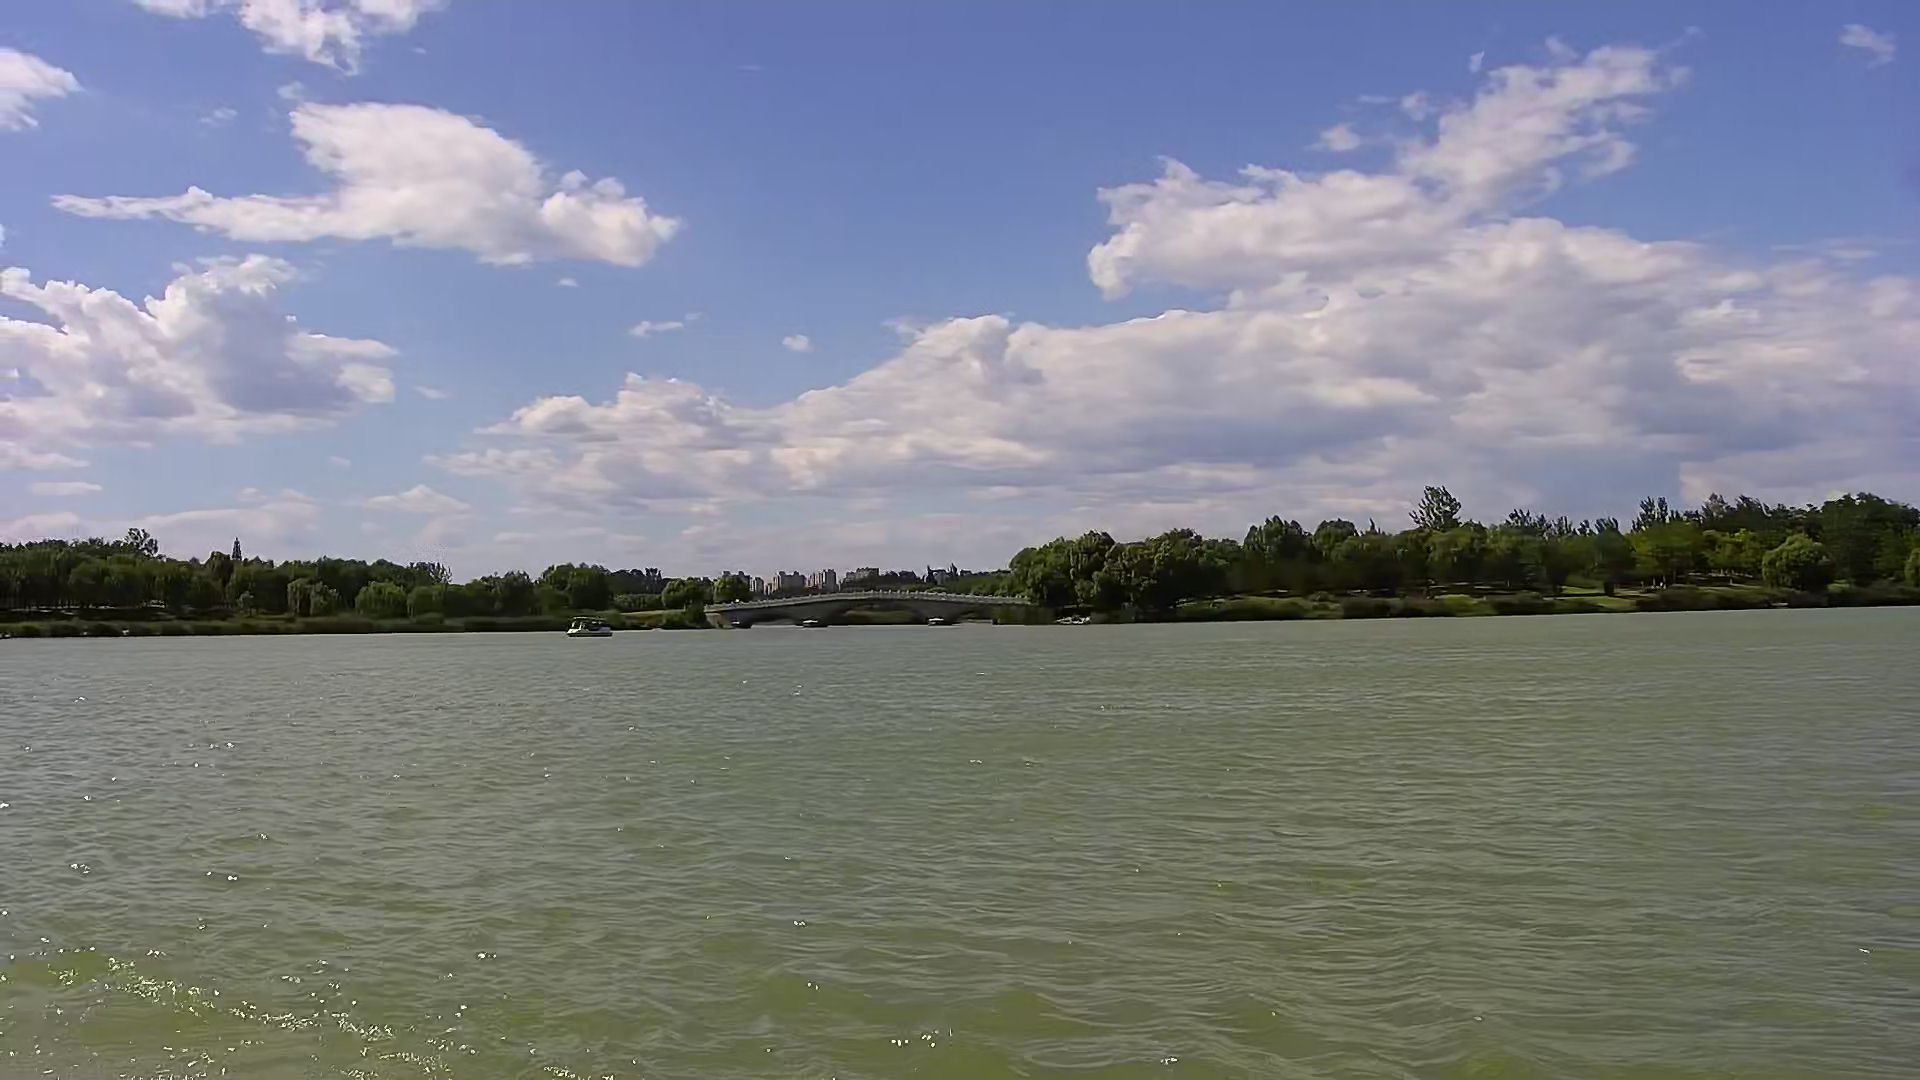boat: (568, 615, 618, 637)
bridge: (712, 589, 1033, 629)
